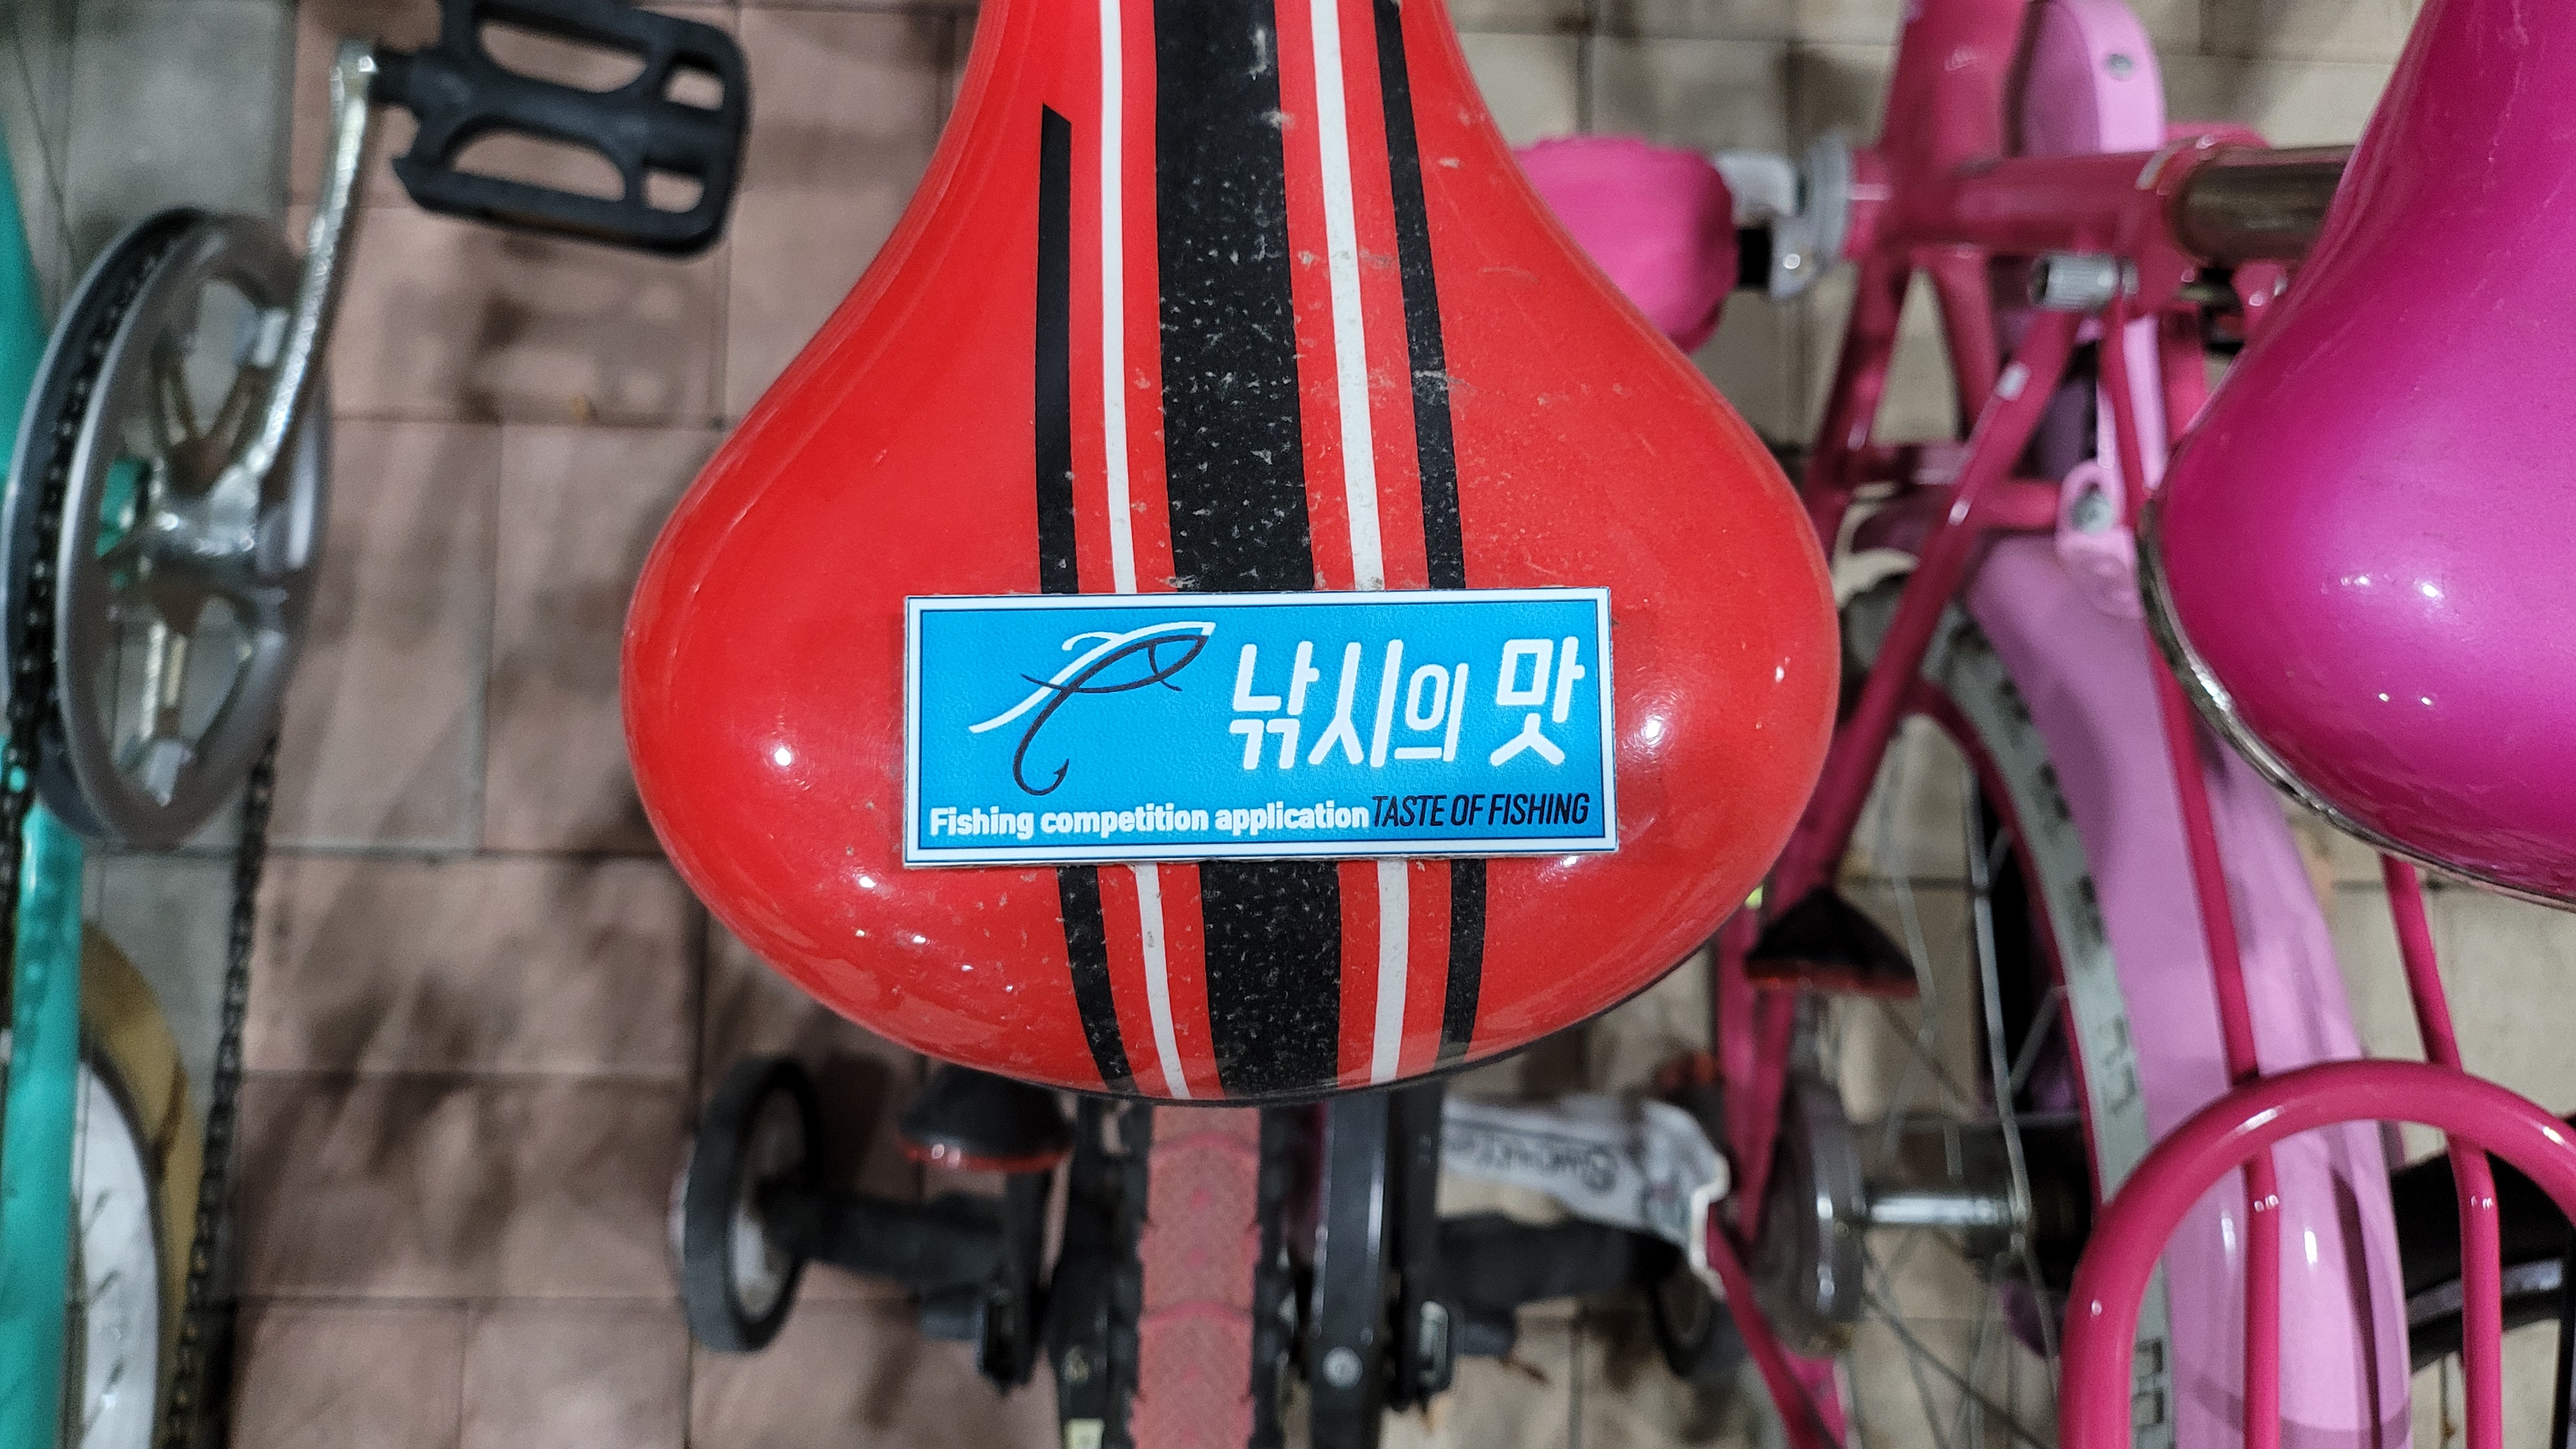tag: (904, 594, 1619, 865)
